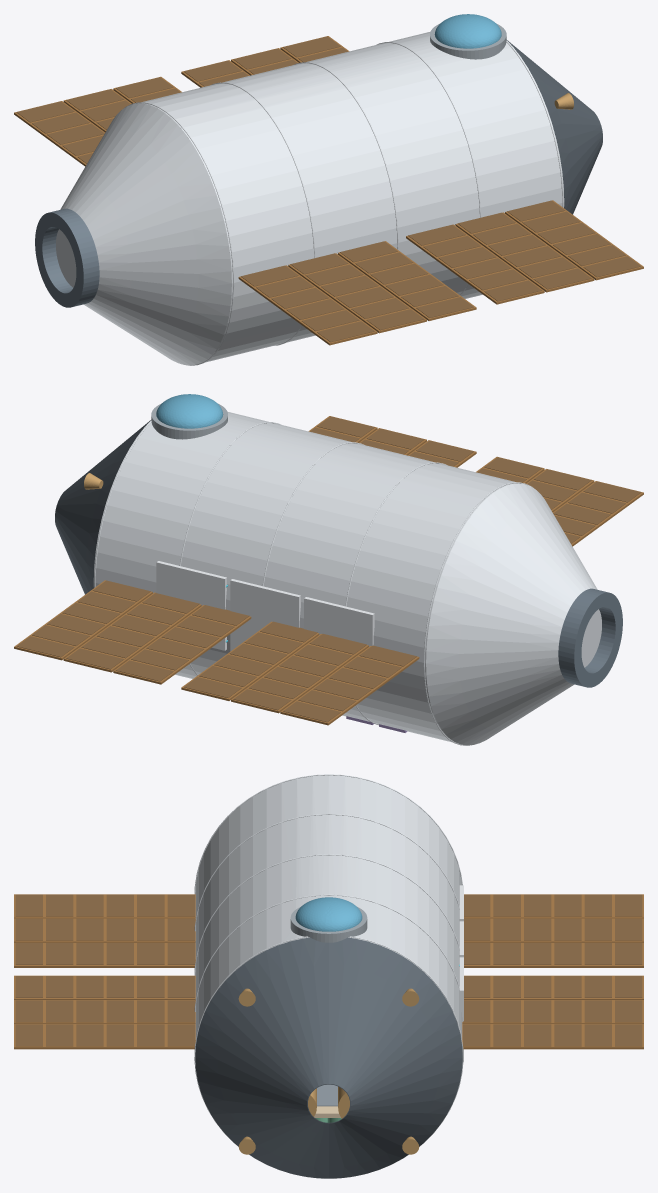
File: Haven1_Public_Reference_R1.glb
3 views of the same model, one above another, from view 1: azimuth 30°, elevation 25°; view 2: azimuth 150°, elevation 25°; view 3: azimuth 270°, elevation 25° (orthographic).
Visible parts, largest first — view 1: Barrel_near, DockCone_near, Barrel_far, AftCone_near, DockingAdapter, DockCone_far, DomedWindow, SolarWing_L_01, SolarWing_L_04, SolarWing_L_02, SolarWing_L_05, SolarWing_L_03 (+50 smaller); view 2: Barrel_far, DockCone_far, Barrel_near, AftCone_far, DockingAdapter, DockCone_near, Radiator_2, Radiator_3, Radiator_1, DomedWindow, SolarWing_R_01, SolarWing_R_04 (+53 smaller); view 3: AftCone_near, AftCone_far, Barrel_near, Barrel_far, DomedWindow, SolarWing_L_06, SolarWing_R_06, SolarWing_L_03, SolarWing_L_01, SolarWing_L_02, SolarWing_R_03, SolarWing_R_01 (+83 smaller).
Part boxes in pixels (bbox=[...]): Barrel_near: bbox=[165, 40, 564, 362]; DockCone_near: bbox=[76, 113, 231, 365]; Barrel_far: bbox=[135, 32, 434, 112]; AftCone_near: bbox=[507, 40, 602, 214]; DockingAdapter: bbox=[35, 208, 99, 307]; DockCone_far: bbox=[60, 103, 164, 212]; DomedWindow: bbox=[434, 14, 501, 48]; SolarWing_L_01: bbox=[238, 265, 377, 345]; SolarWing_L_04: bbox=[406, 224, 544, 304]; SolarWing_L_02: bbox=[288, 253, 426, 333]; SolarWing_L_05: bbox=[455, 212, 594, 292]; SolarWing_L_03: bbox=[338, 241, 476, 320]; Barrel_far: bbox=[93, 420, 492, 742]; DockCone_far: bbox=[426, 493, 581, 745]; Barrel_near: bbox=[223, 412, 522, 492]; AftCone_far: bbox=[55, 420, 150, 594]; DockingAdapter: bbox=[558, 588, 622, 687]; DockCone_near: bbox=[493, 483, 597, 592]; Radiator_2: bbox=[230, 579, 300, 651]; Radiator_3: bbox=[156, 561, 226, 650]; Radiator_1: bbox=[304, 597, 374, 646]; DomedWindow: bbox=[156, 394, 223, 428]; SolarWing_R_01: bbox=[280, 646, 419, 725]; SolarWing_R_04: bbox=[113, 605, 251, 684]; AftCone_near: bbox=[195, 937, 328, 1178]; AftCone_far: bbox=[329, 937, 462, 1178]; Barrel_near: bbox=[195, 775, 328, 1177]; Barrel_far: bbox=[329, 775, 462, 1177]; DomedWindow: bbox=[295, 897, 362, 931]; SolarWing_L_06: bbox=[14, 1024, 195, 1049]; SolarWing_R_06: bbox=[462, 1024, 643, 1049]; SolarWing_L_03: bbox=[14, 942, 195, 967]; SolarWing_L_01: bbox=[14, 894, 195, 918]; SolarWing_L_02: bbox=[14, 918, 195, 942]; SolarWing_R_03: bbox=[464, 942, 643, 967]; SolarWing_R_01: bbox=[464, 894, 643, 918].
Bounding box in the file's own units: 10.1 × 4.76 × 10.36.
